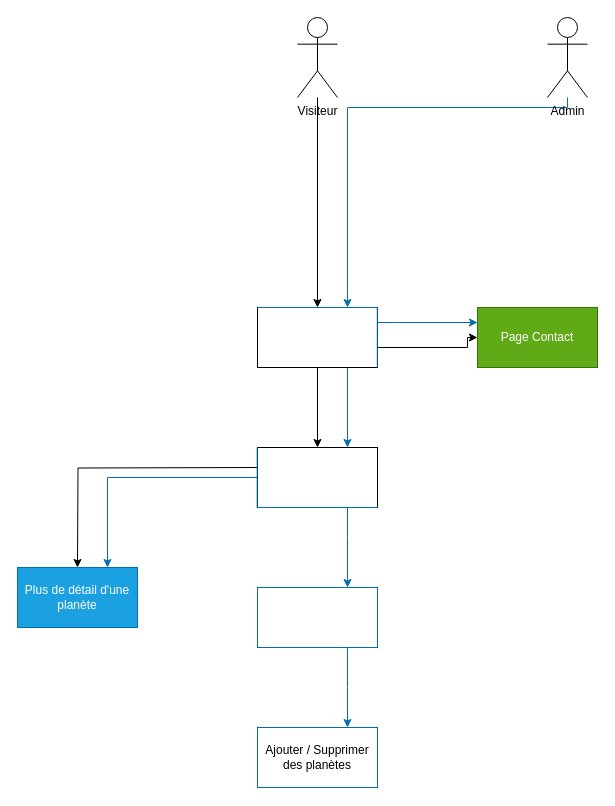
The diagram is 615 pixels wide and 806 high, and some of its shapes have lost their labels. Each missing label, with the centre of its shape:
Connexion: the point at 317,617
Les planètes: the point at 317,477
Page d'acceuil: the point at 317,337
